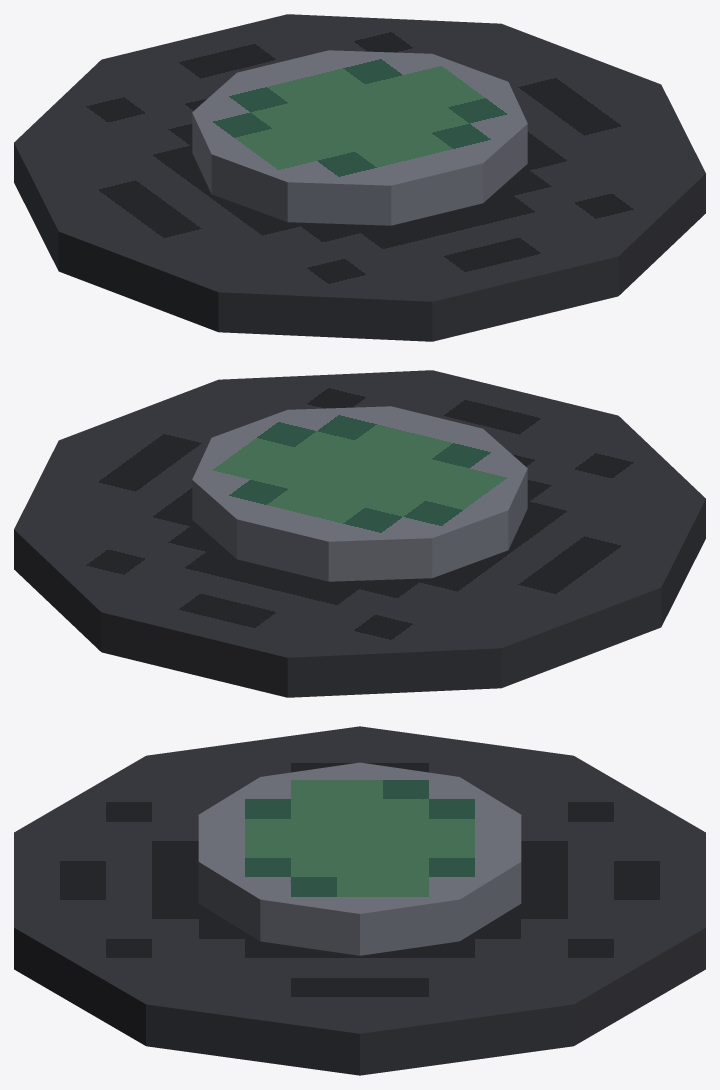
Rendered from SM_Roundabout.gltf.
3 views of the same model, one above another, from view 1: azimuth 30°, elevation 25°; view 2: azimuth 150°, elevation 25°; view 3: azimuth 270°, elevation 25° (orthographic). The views are drawn at different scales.
Parts seen in each view (by area): view 1: cylinder (×2); view 2: cylinder (×2); view 3: cylinder (×2).
Boxes of the visible parts, x1,y1,x2,y2 form: cylinder (×2): [14, 14, 705, 341]; cylinder (×2): [14, 370, 705, 697]; cylinder (×2): [14, 726, 705, 1075].
Bounding box in the file's own units: 0.9857 × 0.125 × 0.9375.
1 material, 1 textured.
